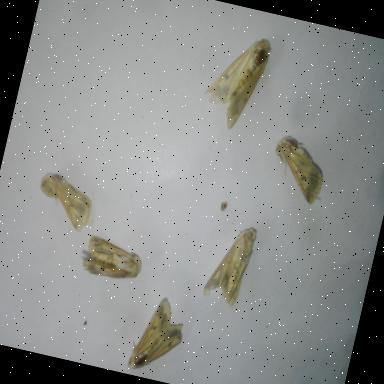abw: (195, 23, 278, 140), (124, 291, 193, 383), (260, 130, 336, 212), (198, 218, 262, 313), (28, 166, 101, 238), (74, 229, 150, 293)
